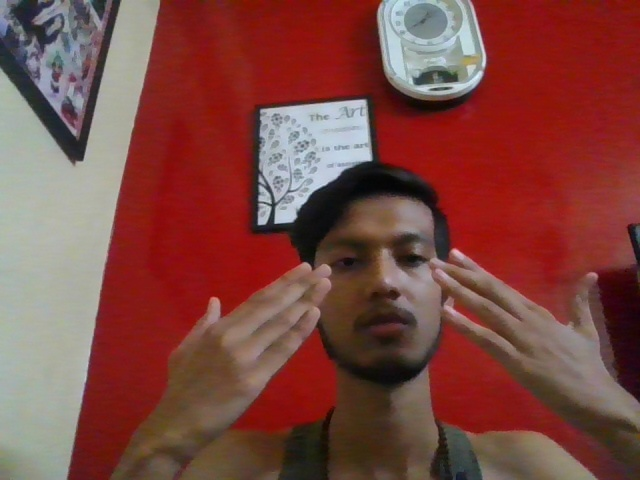ThankYou: (153, 249, 600, 460)
